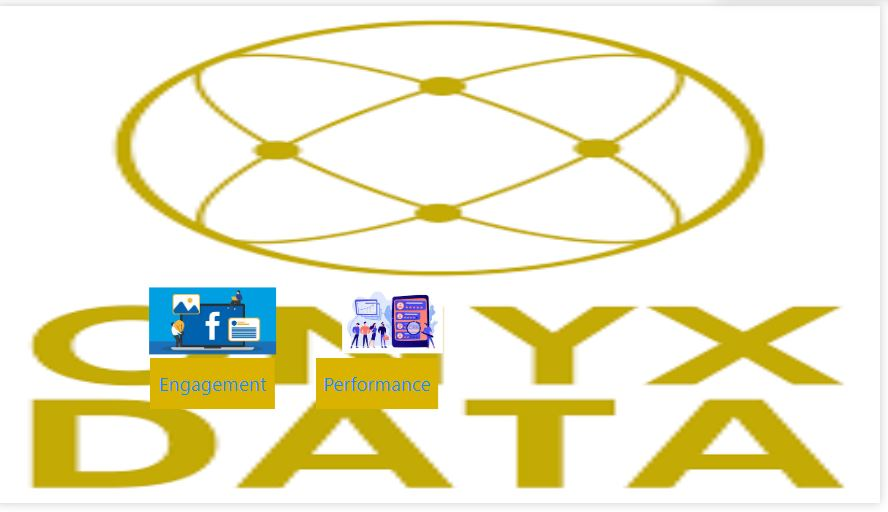

What the dashboard file says about the page in this screenshot:
{"tool":"powerbi","page":{"name":"Home","canvas":[1280,720],"ordinal":0},"visuals":[{"type":"image","box":[453.6,401.4,242,107.2],"z":0},{"type":"image","box":[173.9,402.9,279.7,107.2],"z":1000},{"type":"actionButton","box":[223.2,510.1,181.2,73.9],"z":2000},{"type":"actionButton","box":[463.8,510.1,176.8,73.9],"z":3000}]}

Visuals, with their boxes in screenshot pixels (x1, y1, x2, y2), scaled from the page's 1280x720 canvas onto the 888x512 screenshot:
image: x1=315, y1=285, x2=483, y2=362
image: x1=121, y1=287, x2=315, y2=363
actionButton: x1=155, y1=363, x2=281, y2=415
actionButton: x1=322, y1=363, x2=444, y2=415
